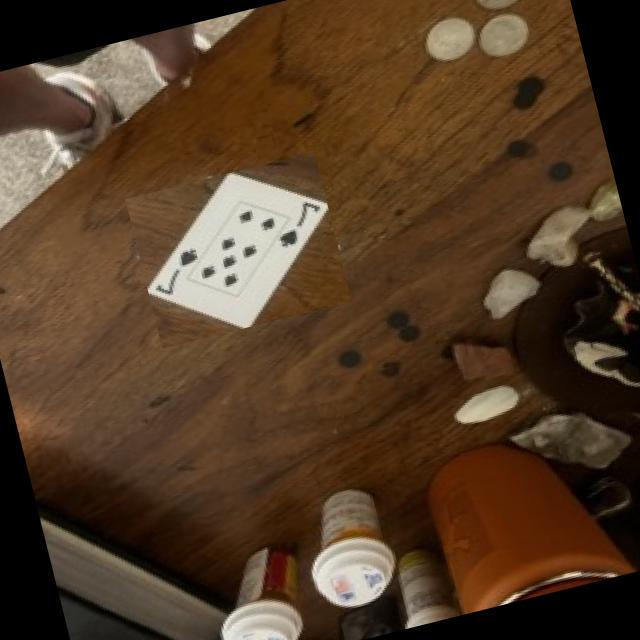7 of spades: (147, 172, 328, 327)
